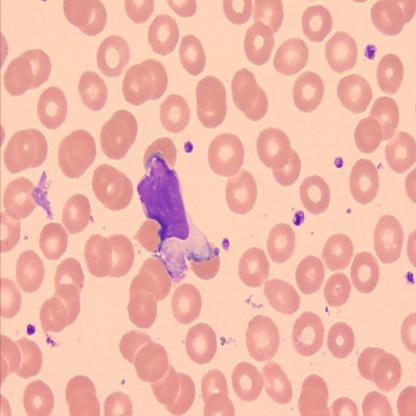Atypical lymphocyte: (138, 152, 216, 280)
